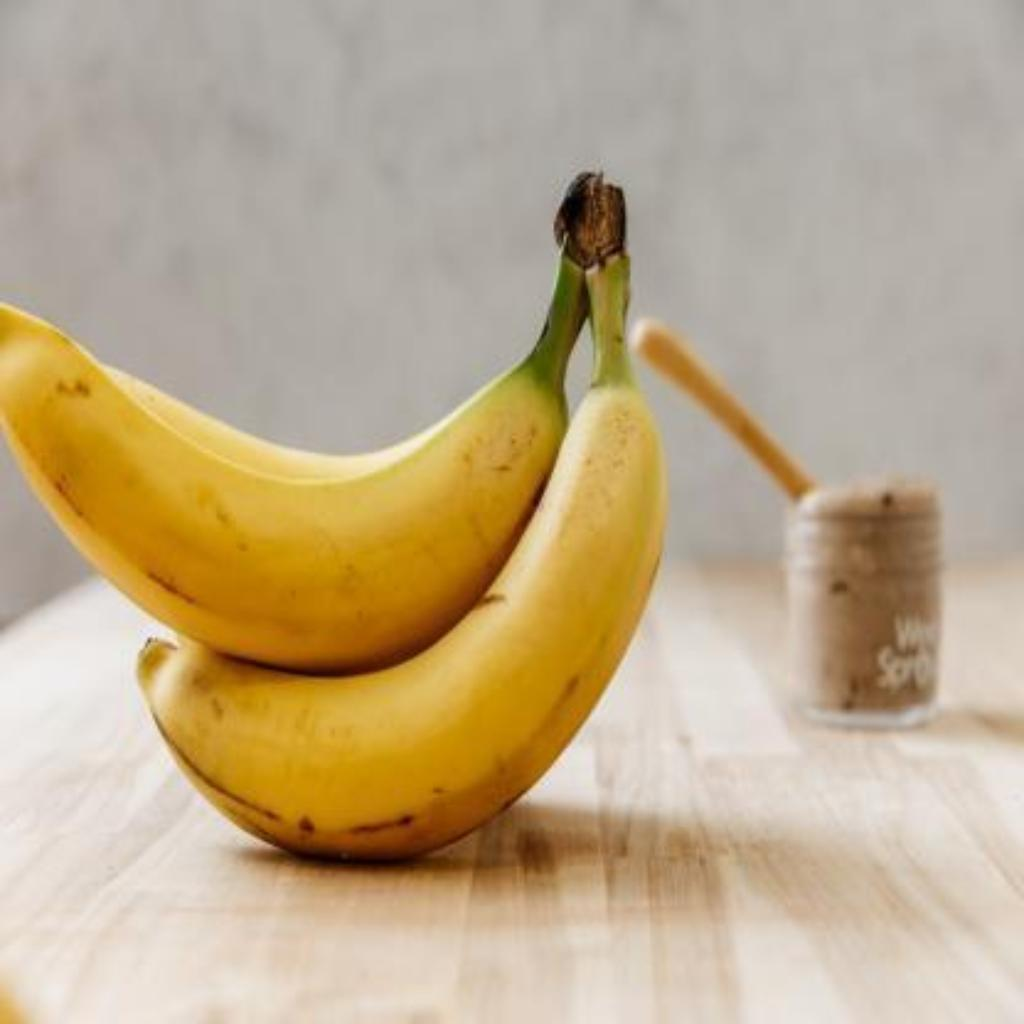banana: (138, 325, 670, 864), (0, 303, 571, 674)
